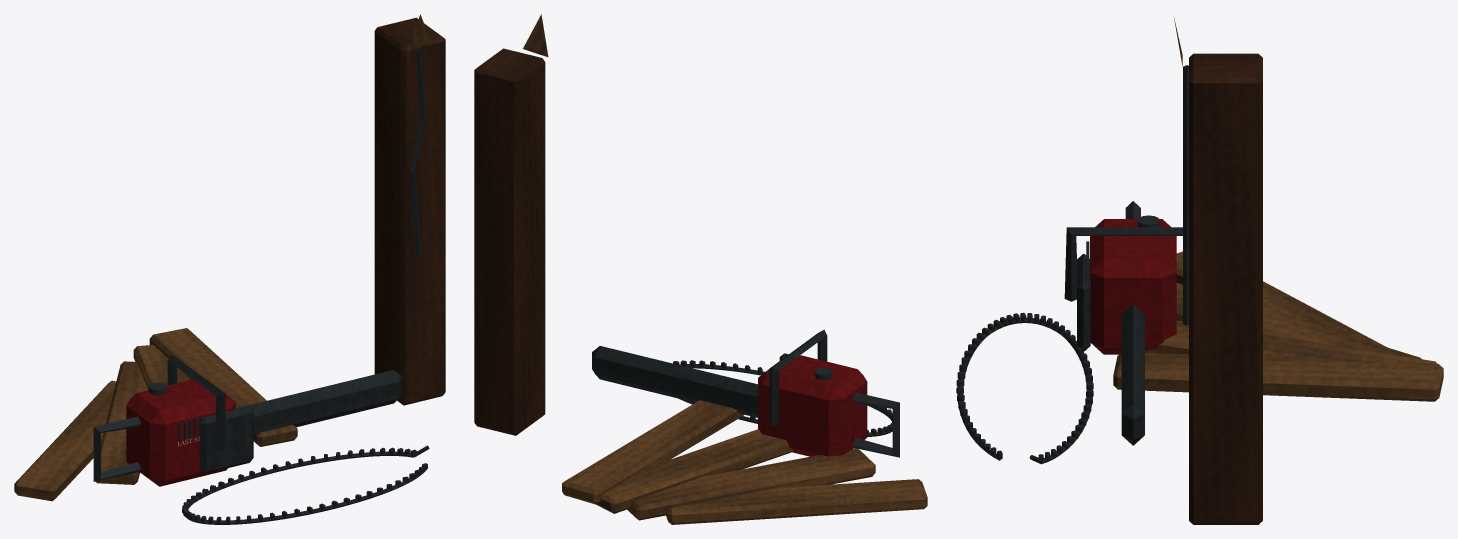
Rendered from broken_chainsaw.glb.
The picture shows the model from 3 angles, left to right: view 1: azimuth 30°, elevation 25°; view 2: azimuth 150°, elevation 25°; view 3: azimuth 270°, elevation 25°; orthographic projection. The views are drawn at different scales.
Visible parts, largest first — view 1: broken_chainsaw; view 2: broken_chainsaw; view 3: broken_chainsaw.
Part boxes in pixels (box(x1,y1,x2,y2)): broken_chainsaw: box(14, 14, 445, 524); broken_chainsaw: box(474, 14, 927, 524); broken_chainsaw: box(956, 17, 1443, 524).
Size of the model in its own units: 2 by 1.76 by 1.58.
Materials: 6 (5 with a texture image).
